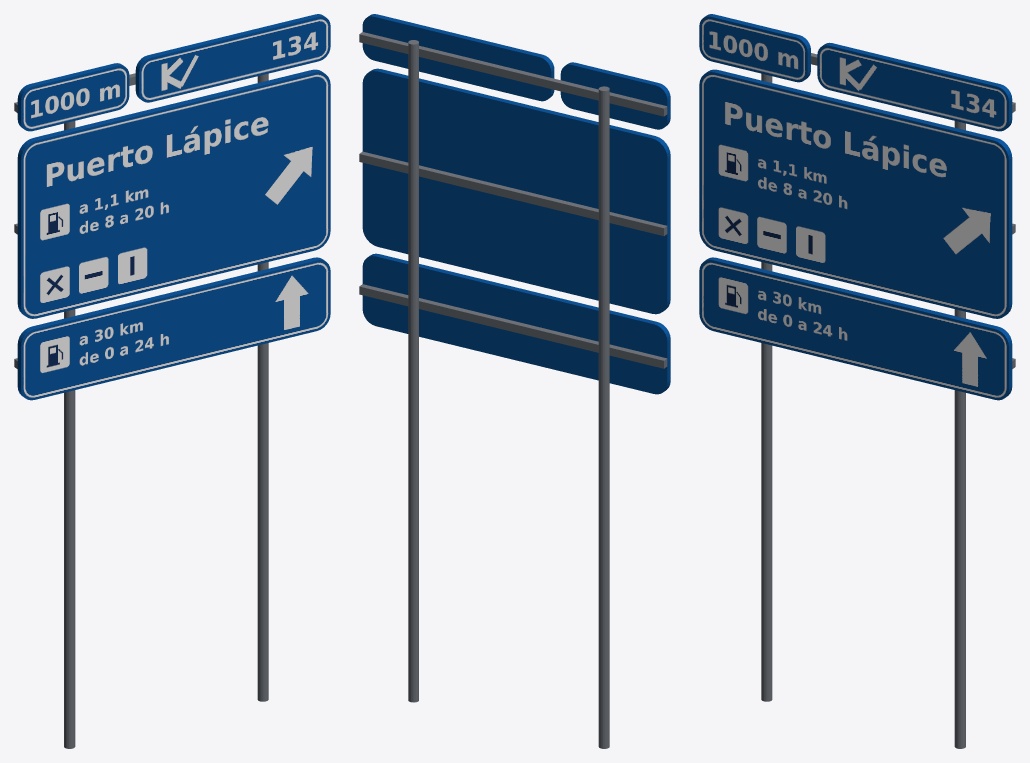
Rendered from info_sign.obj.
The picture shows the model from 3 angles, left to right: view 1: azimuth 30°, elevation 25°; view 2: azimuth 150°, elevation 25°; view 3: azimuth 330°, elevation 25°; orthographic projection.
Visible parts, largest first — view 1: panel_principal_frente, panel_inferior_frente, postes, pill_via_frente, pill_distancia_frente, panel_principal_lados, panel_inferior_lados, pill_via_lados, pill_distancia_lados; view 2: panel_principal_lados, panel_inferior_lados, postes, travesaños, pill_via_lados, pill_distancia_lados; view 3: panel_principal_frente, panel_inferior_frente, postes, pill_via_frente, pill_distancia_frente, panel_principal_lados, panel_inferior_lados, pill_via_lados, pill_distancia_lados.
Part boxes in pixels (bbox=[...]): panel_principal_frente: bbox=[21, 72, 330, 318]; panel_inferior_frente: bbox=[21, 260, 330, 400]; postes: bbox=[64, 73, 268, 748]; pill_via_frente: bbox=[139, 16, 330, 102]; pill_distancia_frente: bbox=[21, 65, 129, 131]; panel_principal_lados: bbox=[17, 69, 324, 315]; panel_inferior_lados: bbox=[17, 257, 325, 396]; pill_via_lados: bbox=[135, 14, 325, 99]; pill_distancia_lados: bbox=[17, 63, 124, 128]; panel_principal_lados: bbox=[362, 68, 670, 314]; panel_inferior_lados: bbox=[362, 253, 670, 394]; postes: bbox=[408, 40, 609, 748]; travesaños: bbox=[359, 32, 667, 368]; pill_via_lados: bbox=[362, 14, 554, 101]; pill_distancia_lados: bbox=[560, 62, 670, 129]; panel_principal_frente: bbox=[699, 72, 1008, 318]; panel_inferior_frente: bbox=[699, 260, 1008, 400]; postes: bbox=[761, 73, 965, 748]; pill_via_frente: bbox=[817, 45, 1008, 131]; pill_distancia_frente: bbox=[699, 16, 807, 82]; panel_principal_lados: bbox=[705, 69, 1012, 315]; panel_inferior_lados: bbox=[704, 257, 1012, 396]; pill_via_lados: bbox=[822, 42, 1012, 128]; pill_distancia_lados: bbox=[704, 14, 810, 79].
Size of the model in its own units: 1.6 by 3.35 by 0.11.
Materials: 3 (1 with a texture image).
